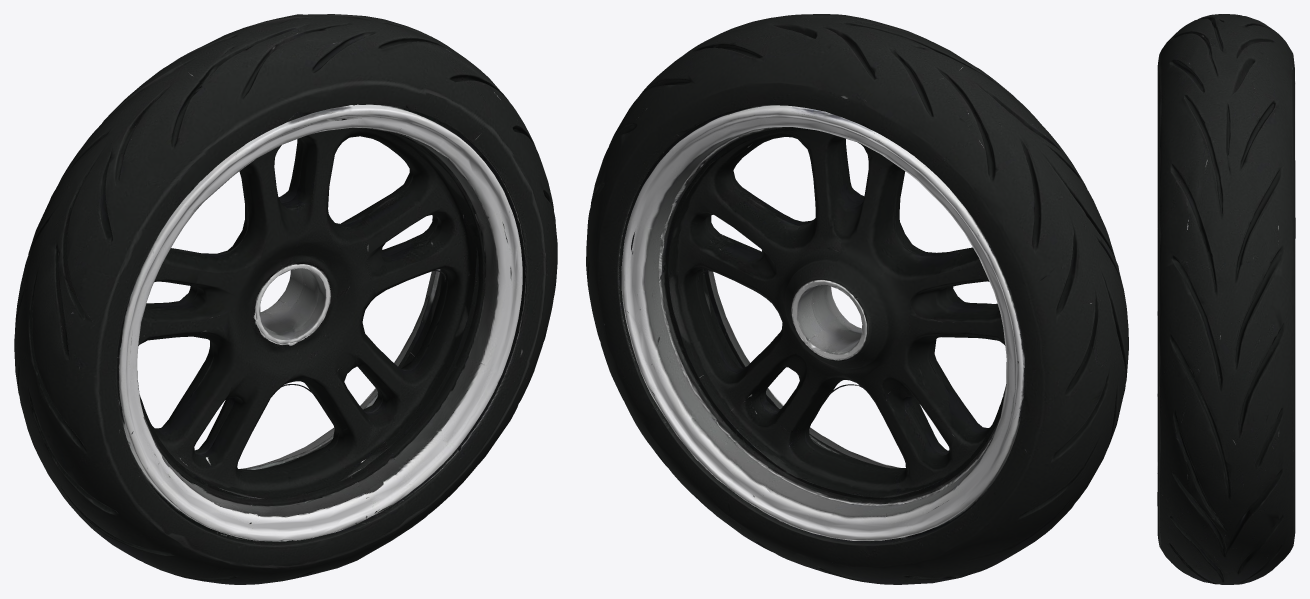
File: Meshy_AI_Performance_Tire_Rim_20261118_texture_41460tris.glb
The picture shows the model from 3 angles, left to right: view 1: azimuth 30°, elevation 25°; view 2: azimuth 150°, elevation 25°; view 3: azimuth 270°, elevation 25°; orthographic projection. The views are drawn at different scales.
Visible parts, largest first — view 1: Mesh_0; view 2: Mesh_0; view 3: Mesh_0.
Part boxes in pixels (x1,y1,x2,y2): Mesh_0: [14, 14, 557, 584]; Mesh_0: [586, 14, 1128, 584]; Mesh_0: [1157, 14, 1295, 584].
Bounding box in the file's own units: 190 × 190 × 46.1.
Materials: 1 (1 with a texture image).
